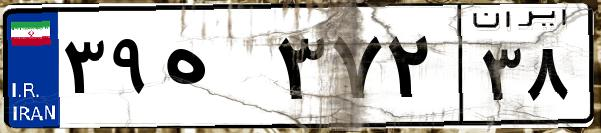2: (385, 28, 445, 110)
3: (270, 28, 330, 110), (57, 26, 110, 100), (475, 38, 525, 113)
7: (330, 28, 385, 110)
8: (525, 38, 570, 115)
9: (110, 28, 158, 98)
ه: (158, 20, 270, 120)
